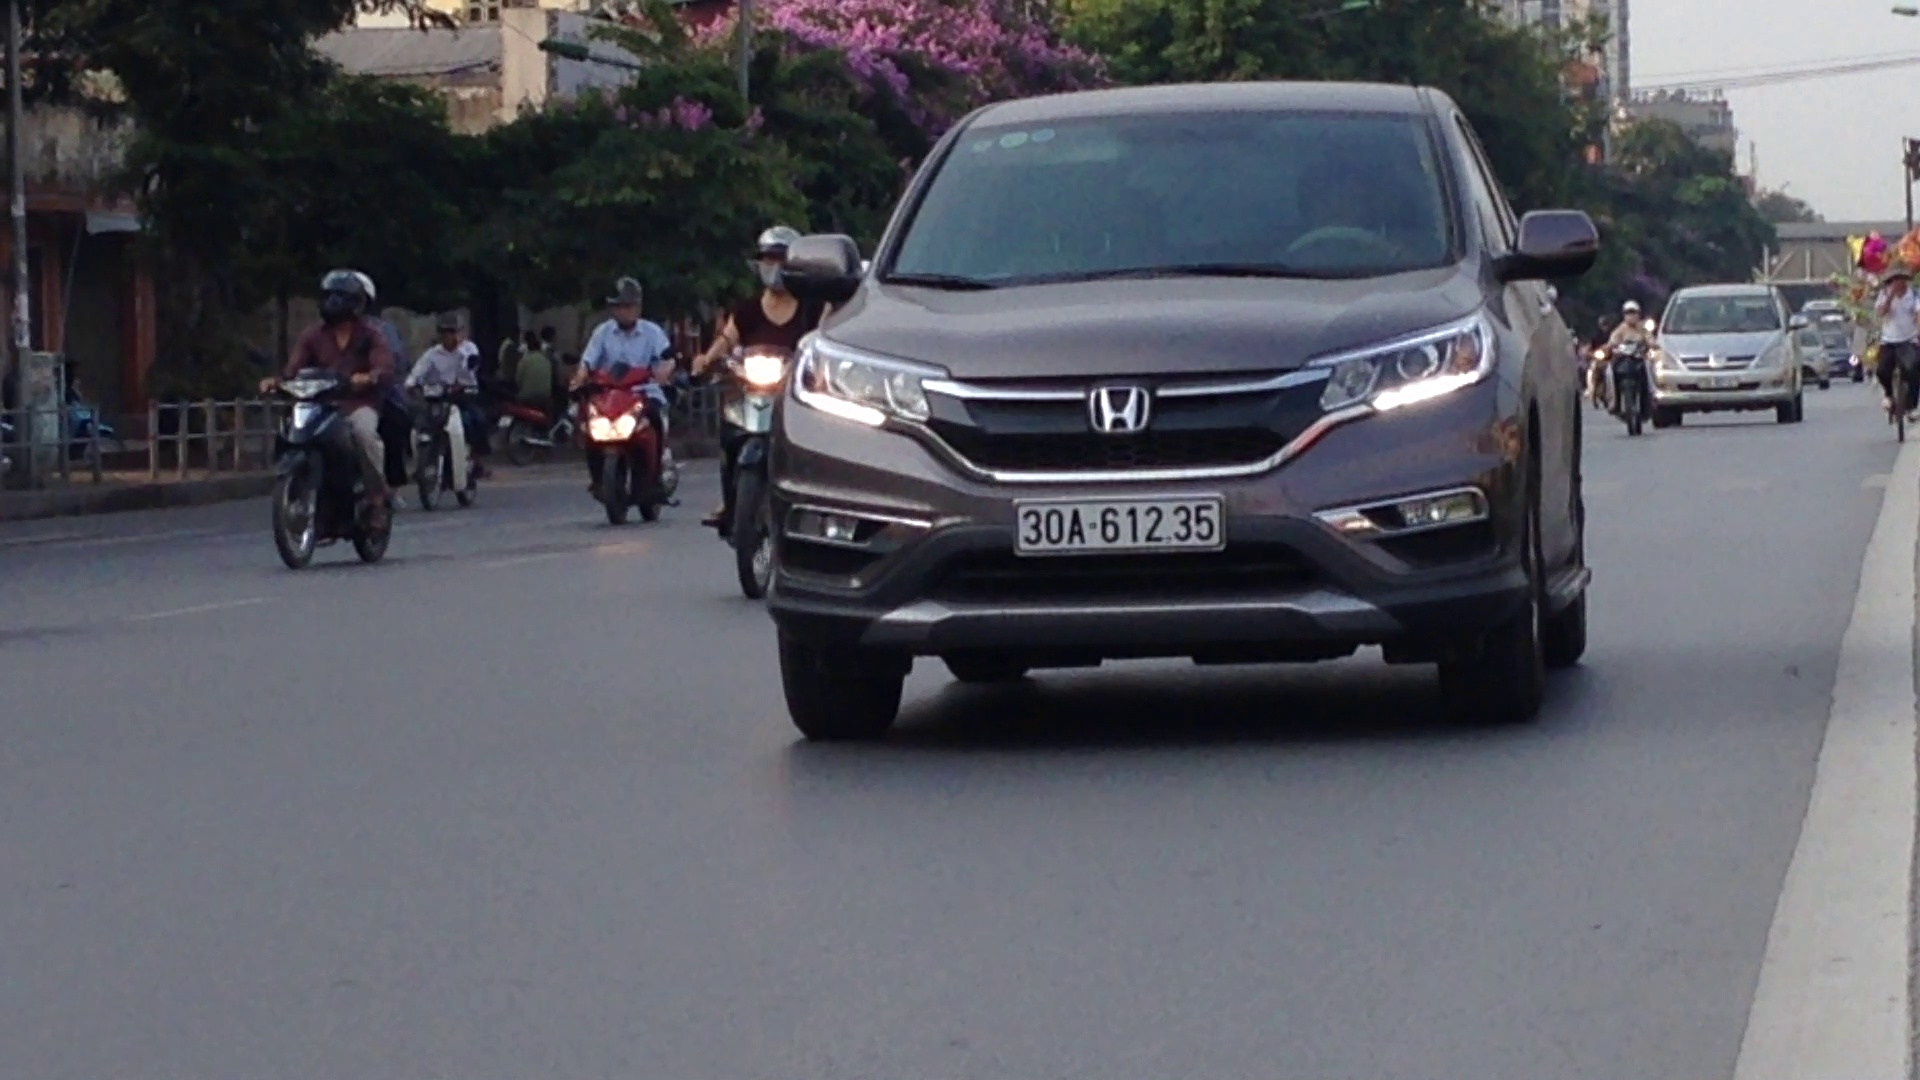person: (1007, 491, 1226, 550)
